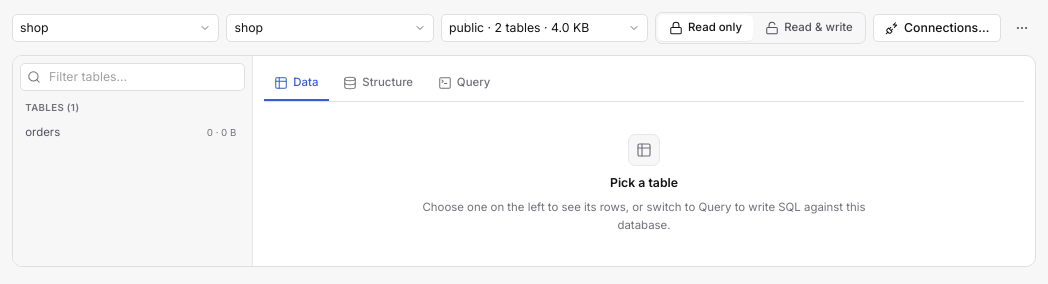
Test: BrowserPanel › PostgreSQL schemas › reloads when the schema changes and drops the old tables
The width and height of the screenshot is (1048, 284).
Expected: the text "orders" is shown, x1=25 y1=123 x2=60 y2=142
Click the button with aria-label "Schema" at (545, 28), box x1=441 y1=14 x2=648 y2=42
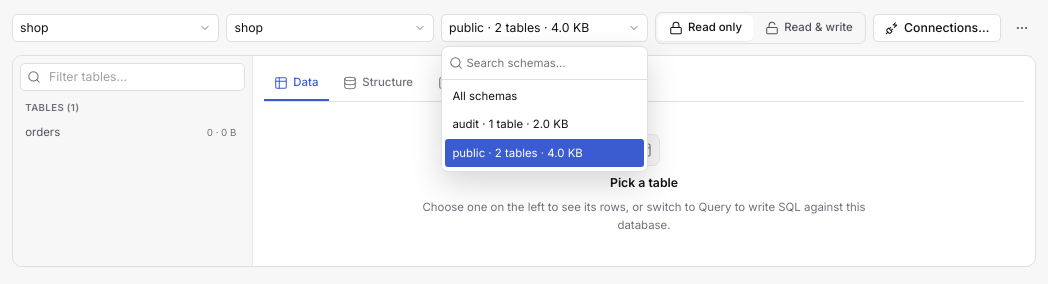
Click the option "audit · 1 table · 2.0 KB" at (510, 124), box x1=452 y1=118 x2=568 y2=132
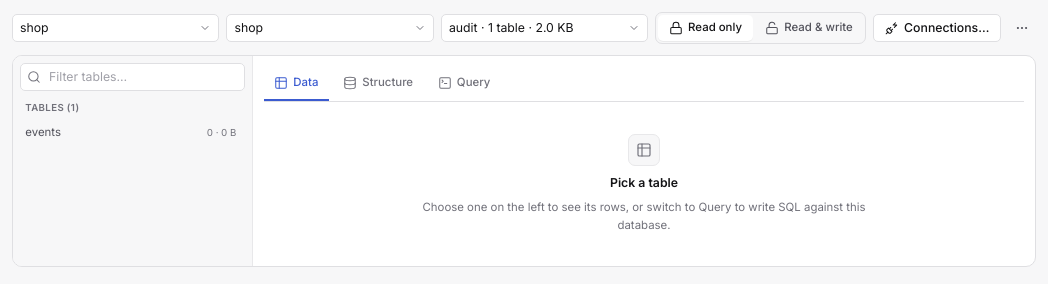
Result: the text "events" is shown at x1=25 y1=123 x2=61 y2=142
Result: the button "orders" is gone
